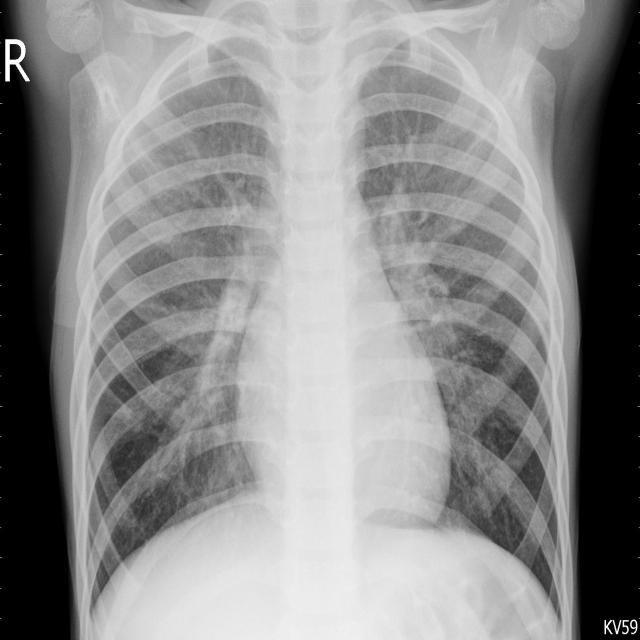low-pneumonia: (374, 158, 505, 500), (163, 206, 280, 478)
